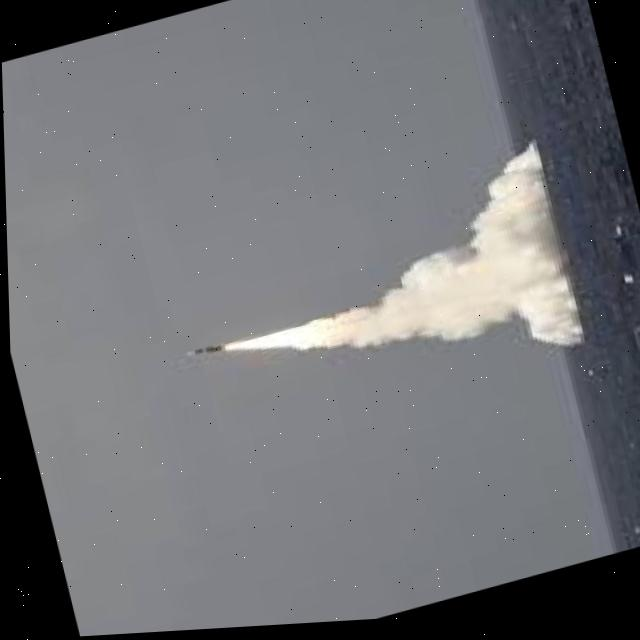missile: (176, 339, 228, 368)
